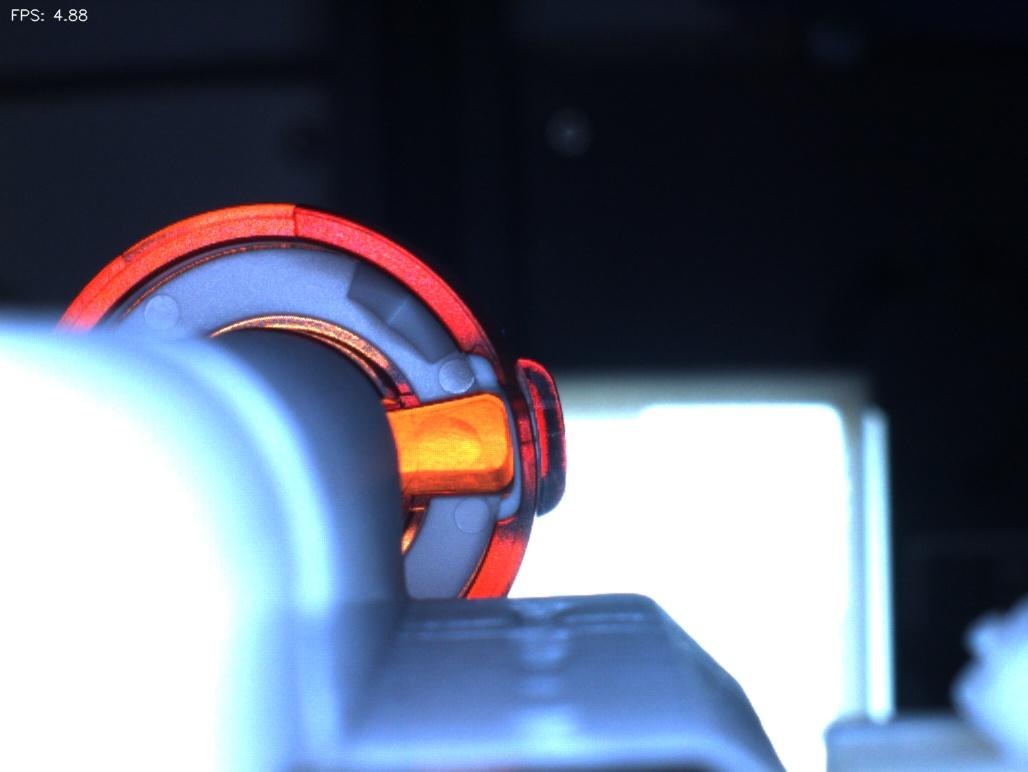Retassure: (402, 410, 494, 488)
